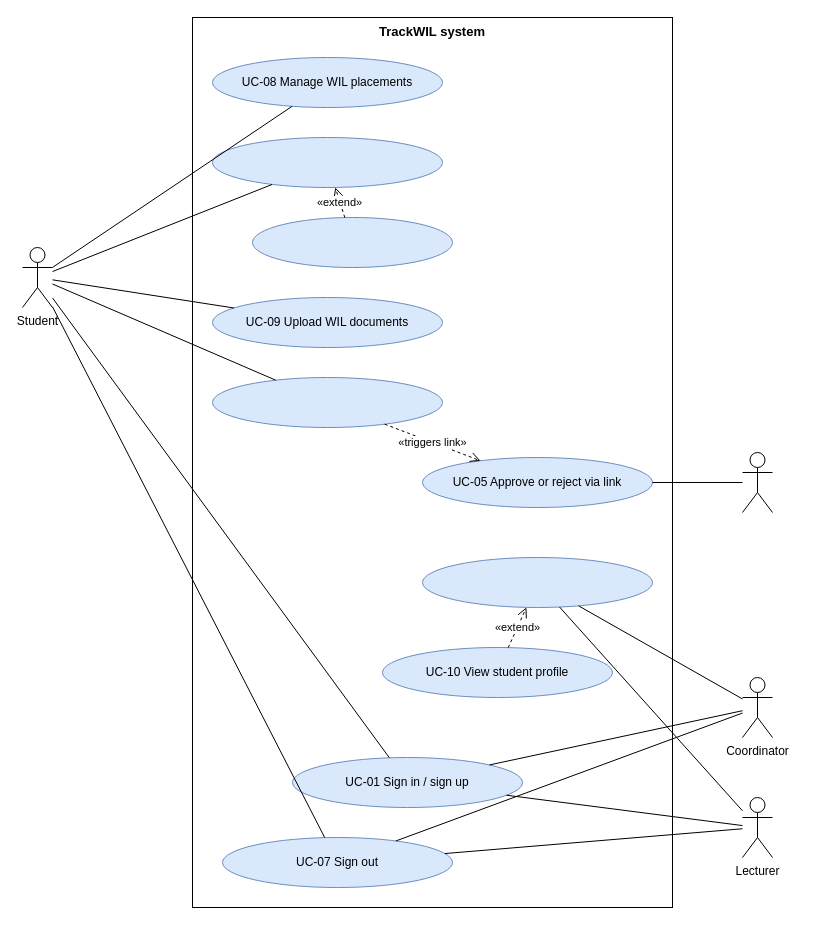
Image size: 823x925. Some labels were removed from this diagram. Here are the shapes that lost their labels. From the top down, the centre of each, then its label:
At pixel 327 162: "UC-02 Create logbook entry".
At pixel 352 242: "UC-03 Upload evidence".
At pixel 327 402: "UC-04 Submit for verification".
At pixel 757 482: "Workplace mentor (no account)".
At pixel 537 582: "UC-06 View monitoring dashboard".
